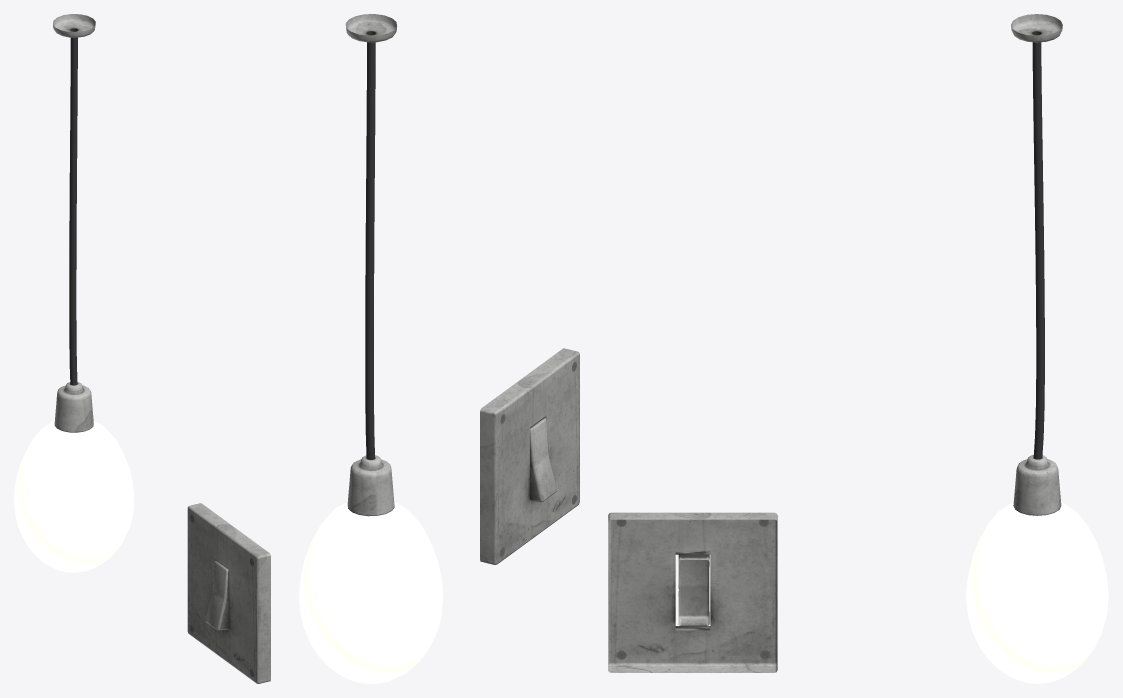
File: lightbulb.glb
The picture shows the model from 3 angles, left to right: view 1: azimuth 30°, elevation 25°; view 2: azimuth 150°, elevation 25°; view 3: azimuth 270°, elevation 25°; orthographic projection. The views are drawn at different scales.
Visible parts, largest first — view 1: SM_bulb.003_Material.001_0, SM_light_switch.003_Material.001_0, SM_bulb.004_Material.001_0, SM_light_switch.002_Material.001_0; view 2: SM_bulb.003_Material.001_0, SM_light_switch.003_Material.001_0, SM_bulb.004_Material.001_0, SM_light_switch.002_Material.001_0; view 3: SM_light_switch.003_Material.001_0, SM_bulb.003_Material.001_0, SM_bulb.004_Material.001_0, SM_light_switch.002_Material.001_0.
Boxes of the visible parts, box(x1,y1,x2,y2) form: SM_bulb.003_Material.001_0: box(14, 381, 134, 572); SM_light_switch.003_Material.001_0: box(187, 503, 270, 683); SM_bulb.004_Material.001_0: box(53, 14, 95, 385); SM_light_switch.002_Material.001_0: box(205, 560, 229, 630); SM_bulb.003_Material.001_0: box(299, 455, 442, 683); SM_light_switch.003_Material.001_0: box(480, 348, 579, 564); SM_bulb.004_Material.001_0: box(345, 14, 397, 459); SM_light_switch.002_Material.001_0: box(530, 418, 556, 501); SM_light_switch.003_Material.001_0: box(608, 512, 777, 672); SM_bulb.003_Material.001_0: box(966, 454, 1108, 683); SM_bulb.004_Material.001_0: box(1011, 14, 1062, 459); SM_light_switch.002_Material.001_0: box(678, 554, 709, 625).
Bounding box in the file's own units: 0.1276 × 0.6348 × 0.4405.
1 material, 1 textured.
